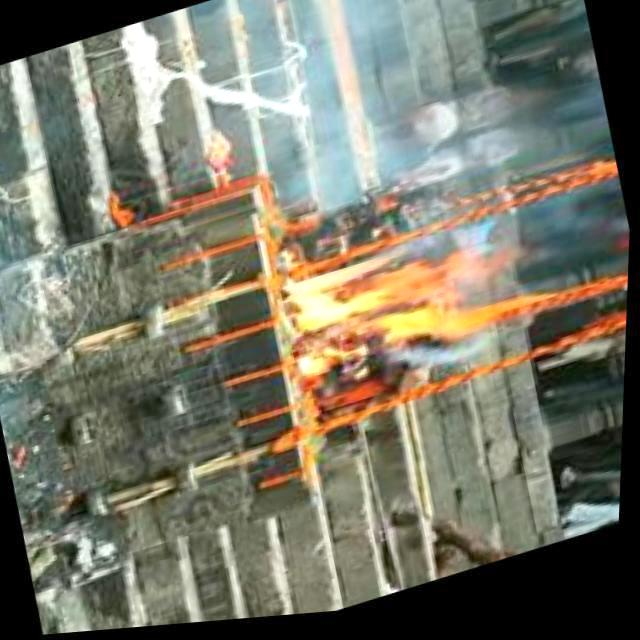fire: (274, 213, 536, 399)
